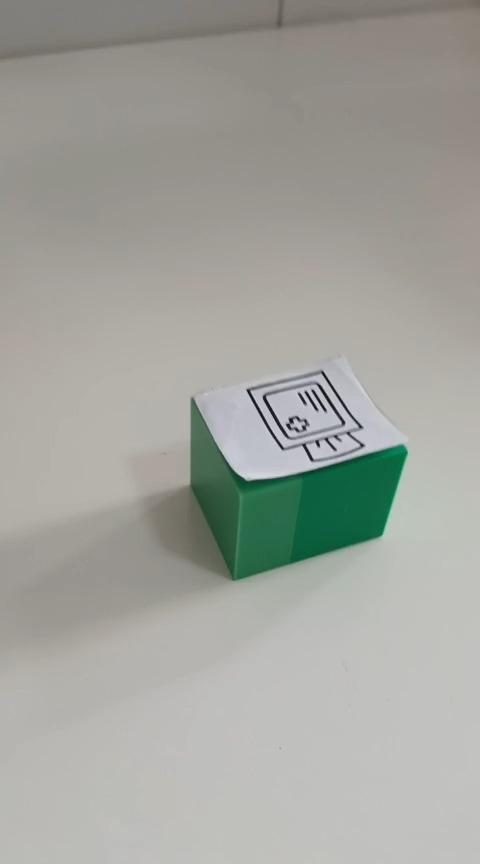Gauze: (188, 351, 408, 580)
